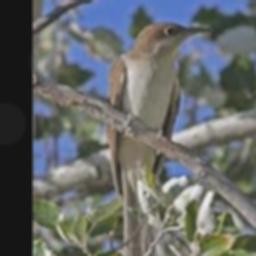Cuckoo: (106, 23, 210, 256)
